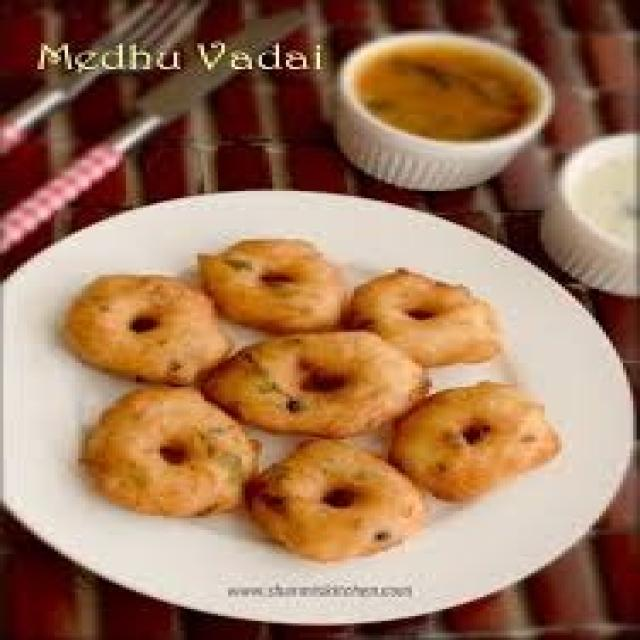medu vadai: (208, 329, 425, 439), (81, 387, 261, 519), (241, 437, 424, 560), (388, 385, 557, 501), (63, 274, 230, 385), (343, 269, 499, 368), (196, 238, 349, 334)
